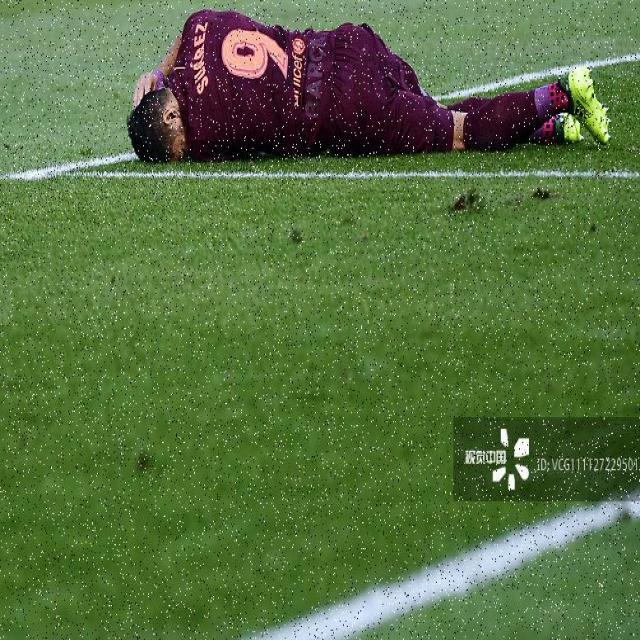fall: (127, 7, 604, 167)
